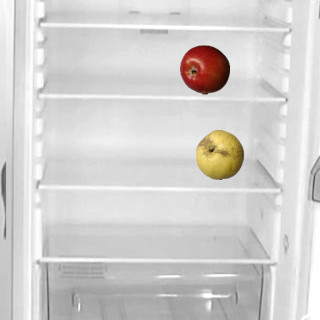Apple Braeburn: (179, 44, 229, 94)
Apple Golden 1: (194, 129, 244, 179)
